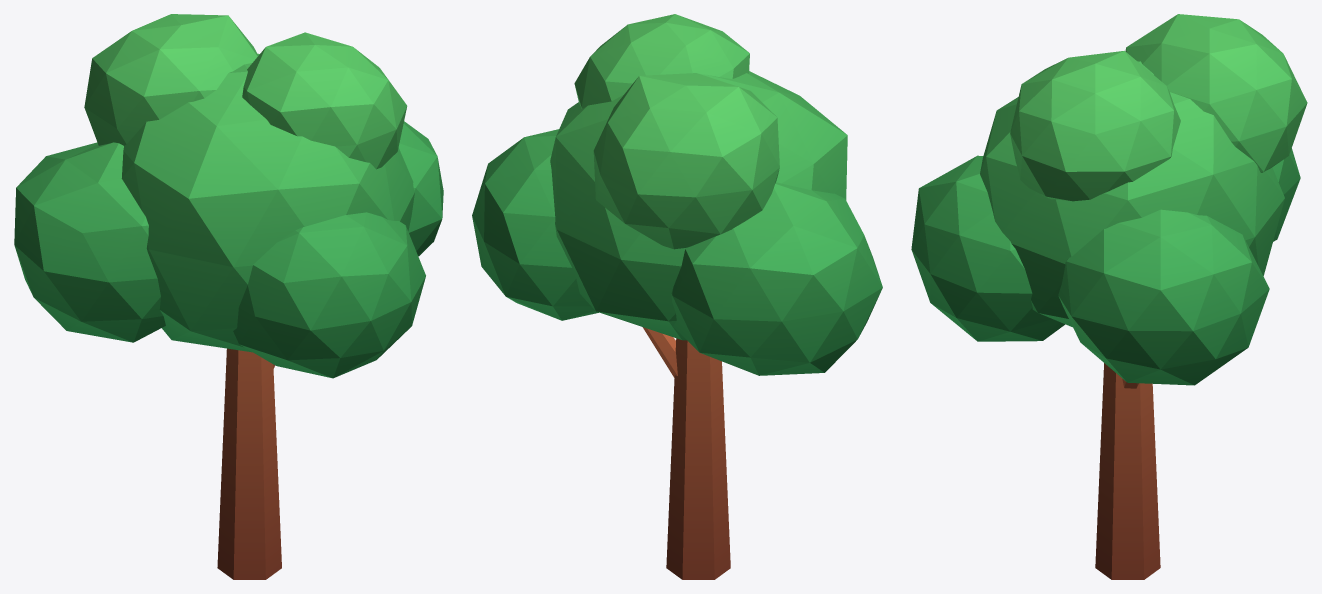
File: arbol_A.glb
3 renders of one model, left to right at view 1: azimuth 30°, elevation 25°; view 2: azimuth 150°, elevation 25°; view 3: azimuth 270°, elevation 25°, orthographic.
Parts seen in each view (by area): view 1: arbol_A; view 2: arbol_A; view 3: arbol_A.
Boxes of the visible parts, <box> form: arbol_A: <box>14,14,443,579</box>; arbol_A: <box>472,14,882,579</box>; arbol_A: <box>911,14,1307,579</box>.
Size of the model in its own units: 2.79 by 3.57 by 2.43.
1 material, 1 textured.
